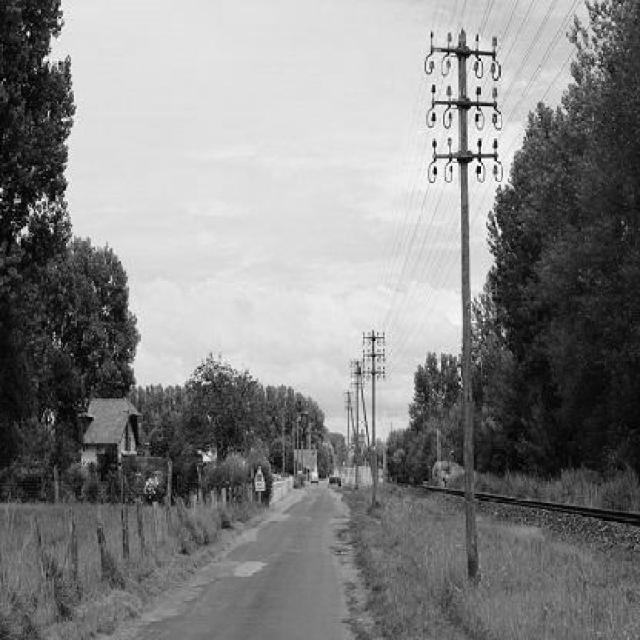Pole: (423, 30, 502, 583), (363, 330, 385, 507)
